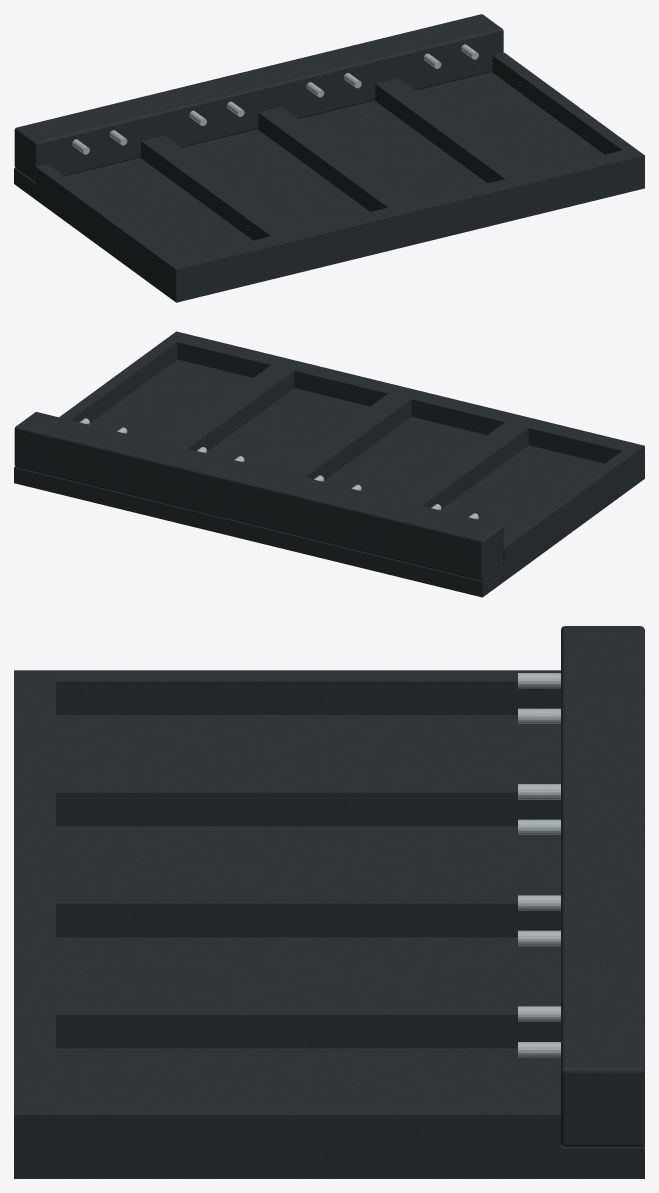
Rendered from row-carrier.glb.
3 renders of one model, top to bottom at view 1: azimuth 30°, elevation 25°; view 2: azimuth 150°, elevation 25°; view 3: azimuth 270°, elevation 25°, orthographic. The views are drawn at different scales.
Parts seen in each view (by area): view 1: carrier_continuous_deck_plinth, carrier_rear_manifold, carrier_working_toe_face, carrier_sealed_infill_3, carrier_sealed_infill_2, carrier_sealed_infill_1, carrier_sealed_infill_0, carrier_sealed_infill_4; view 2: carrier_continuous_deck_plinth, carrier_rear_manifold, carrier_working_toe_face, carrier_sealed_infill_3, carrier_sealed_infill_2, carrier_sealed_infill_1, carrier_sealed_infill_0, carrier_sealed_infill_4, carrier_rear_service_panel_0, carrier_rear_service_panel_1; view 3: carrier_continuous_deck_plinth, carrier_rear_manifold, carrier_sealed_infill_2, carrier_sealed_infill_3, carrier_sealed_infill_1, carrier_sealed_infill_4, carrier_sealed_infill_0, carrier_working_toe_face.
Part boxes in pixels (bbox=[...]): carrier_continuous_deck_plinth: bbox=[14, 72, 644, 302]; carrier_rear_manifold: bbox=[14, 14, 503, 182]; carrier_working_toe_face: bbox=[165, 147, 644, 286]; carrier_sealed_infill_3: bbox=[375, 78, 528, 183]; carrier_sealed_infill_2: bbox=[258, 107, 411, 211]; carrier_sealed_infill_1: bbox=[141, 135, 293, 240]; carrier_sealed_infill_0: bbox=[35, 164, 176, 278]; carrier_sealed_infill_4: bbox=[492, 52, 633, 154]; carrier_continuous_deck_plinth: bbox=[14, 359, 644, 597]; carrier_rear_manifold: bbox=[14, 412, 503, 580]; carrier_working_toe_face: bbox=[166, 331, 644, 470]; carrier_sealed_infill_3: bbox=[165, 365, 294, 451]; carrier_sealed_infill_2: bbox=[282, 393, 411, 479]; carrier_sealed_infill_1: bbox=[399, 422, 528, 508]; carrier_sealed_infill_0: bbox=[503, 451, 634, 565]; carrier_sealed_infill_4: bbox=[59, 339, 177, 422]; carrier_rear_service_panel_0: bbox=[372, 521, 475, 571]; carrier_rear_service_panel_1: bbox=[257, 499, 357, 544]; carrier_continuous_deck_plinth: bbox=[14, 715, 644, 1178]; carrier_rear_manifold: bbox=[561, 626, 644, 1146]; carrier_sealed_infill_2: bbox=[56, 881, 560, 937]; carrier_sealed_infill_3: bbox=[56, 992, 560, 1048]; carrier_sealed_infill_1: bbox=[56, 770, 560, 826]; carrier_sealed_infill_4: bbox=[56, 1103, 560, 1148]; carrier_sealed_infill_0: bbox=[56, 670, 560, 714]; carrier_working_toe_face: bbox=[14, 670, 55, 1148].
Bounding box in the file's own units: 6.25 × 0.72 × 3.75.
Materials: 2 (2 with a texture image).
